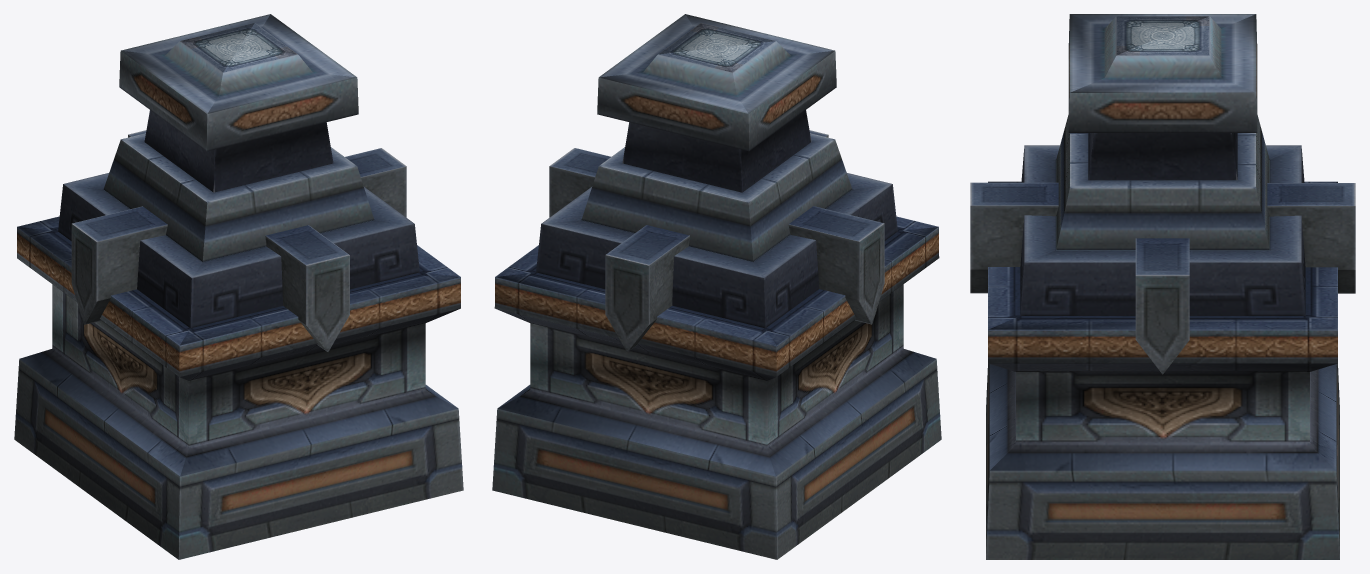
Rendered from shi_zhuang_001.FBX.
3 views of the same model, side by side, from view 1: azimuth 30°, elevation 25°; view 2: azimuth 150°, elevation 25°; view 3: azimuth 270°, elevation 25° (orthographic). The views are drawn at different scales.
Parts seen in each view (by area): view 1: shi_zhuang_001_c, shi_zhuang_001_a, shi_zhuang_001_b, shi_zhuang_001_d; view 2: shi_zhuang_001_c, shi_zhuang_001_a, shi_zhuang_001_b, shi_zhuang_001_d; view 3: shi_zhuang_001_c, shi_zhuang_001_a, shi_zhuang_001_b, shi_zhuang_001_d.
Boxes of the visible parts, <box> form: shi_zhuang_001_c: <box>14,216,463,559</box>; shi_zhuang_001_a: <box>103,14,374,261</box>; shi_zhuang_001_b: <box>58,173,419,328</box>; shi_zhuang_001_d: <box>71,130,406,352</box>; shi_zhuang_001_c: <box>492,216,941,559</box>; shi_zhuang_001_a: <box>581,14,852,261</box>; shi_zhuang_001_b: <box>536,173,897,328</box>; shi_zhuang_001_d: <box>549,130,884,352</box>; shi_zhuang_001_c: <box>986,181,1339,559</box>; shi_zhuang_001_a: <box>1056,14,1269,249</box>; shi_zhuang_001_b: <box>1020,145,1305,315</box>; shi_zhuang_001_d: <box>970,182,1355,374</box>.
Size of the model in its own units: 1.92 by 2.46 by 1.92.
